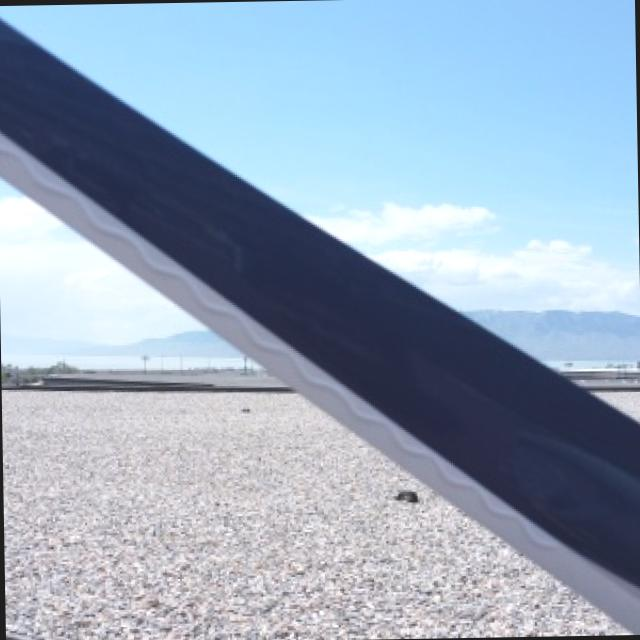healthy: (0, 19, 640, 632)
